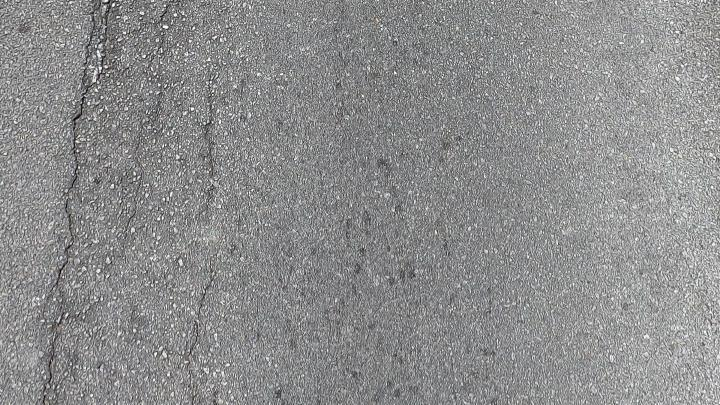Crack: (39, 0, 116, 405), (39, 0, 110, 404)
